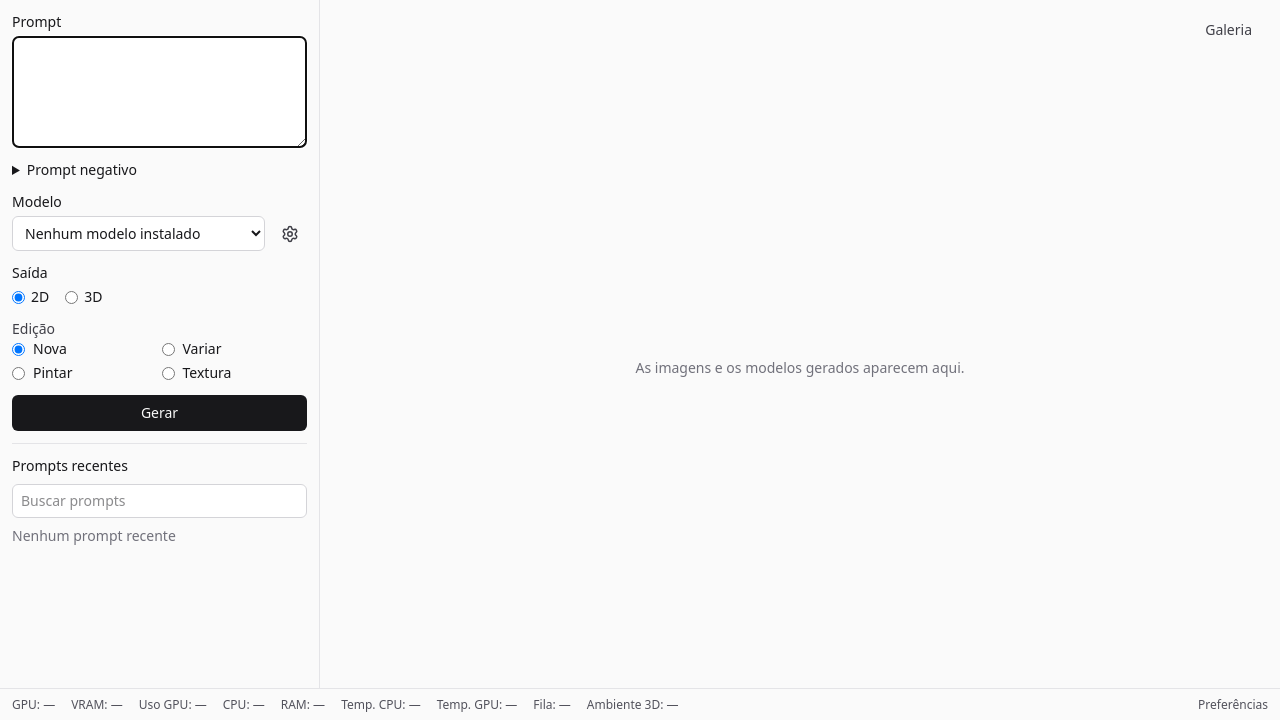
Test: App › abre o prompt negativo e as configurações do modelo
The image size is (1280, 720).
Step 1. Click the heading "Prompt negativo" → click(82, 170), box [27, 160, 137, 179]
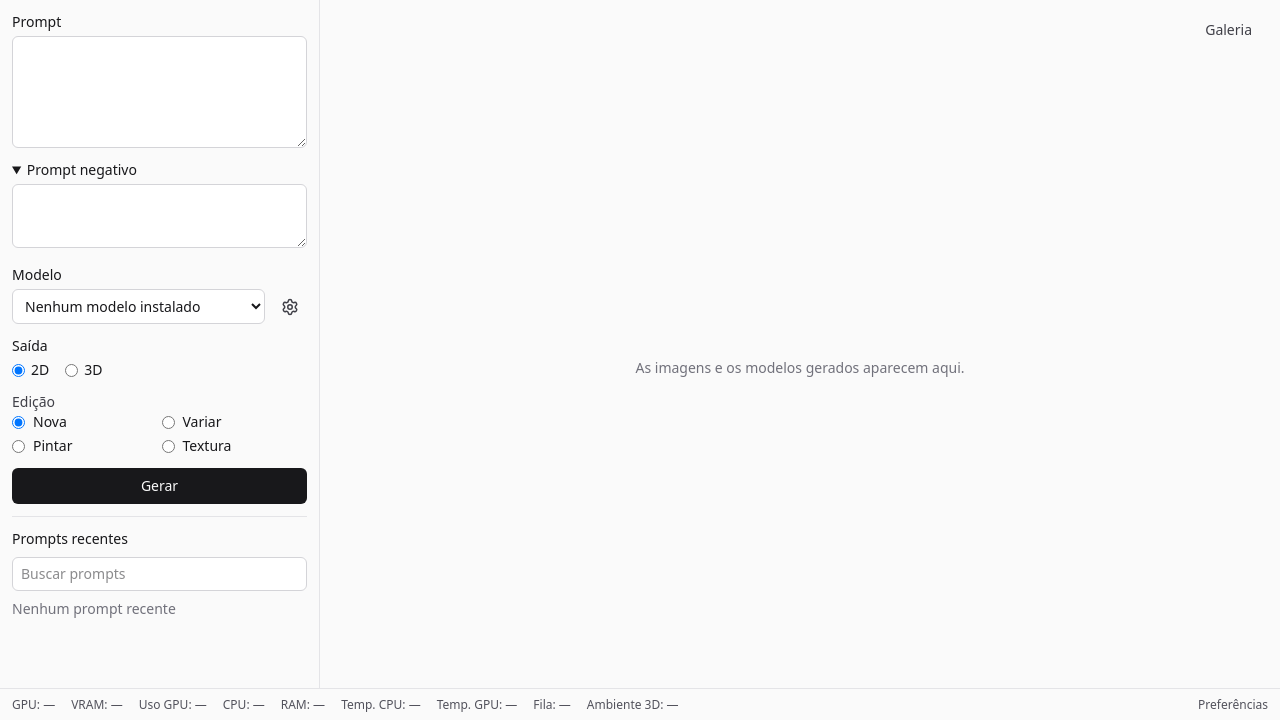
Step 2. Type "fundo" into the text box named "Prompt negativo" → (160, 216), box [12, 184, 307, 248]
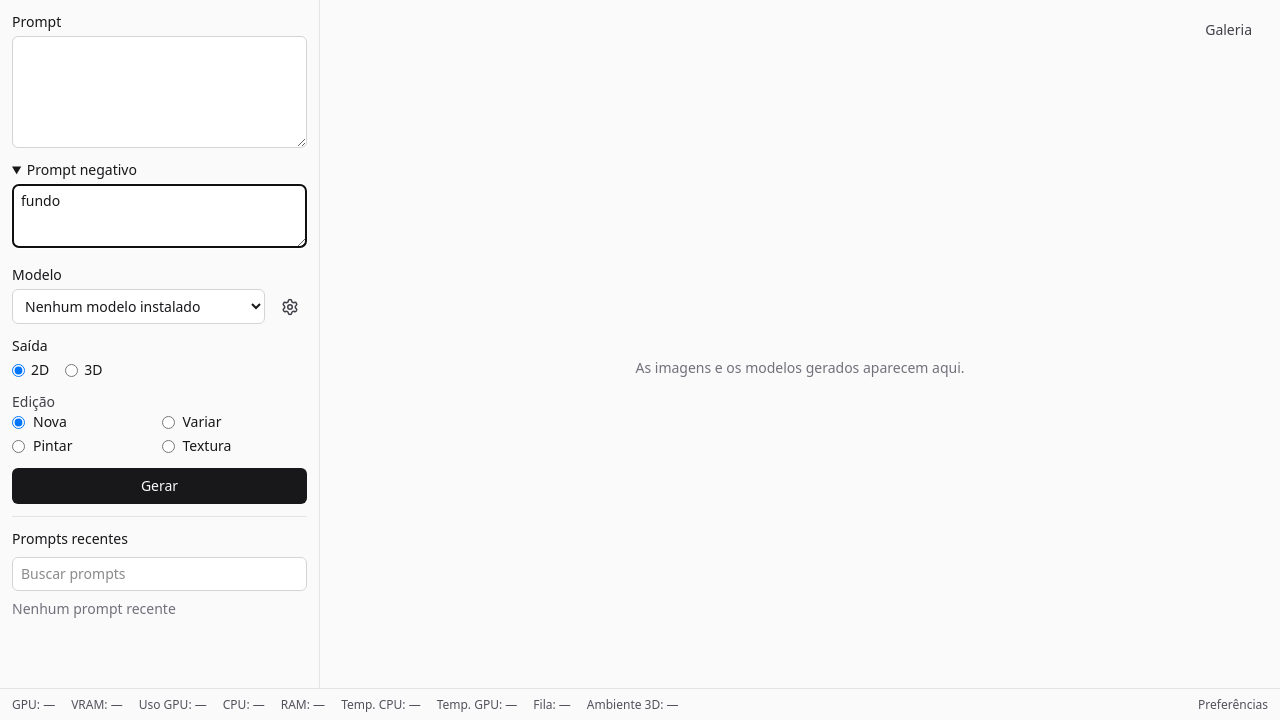
Step 3. Click the button named "Configurações do modelo" → click(290, 307), box [273, 290, 307, 324]
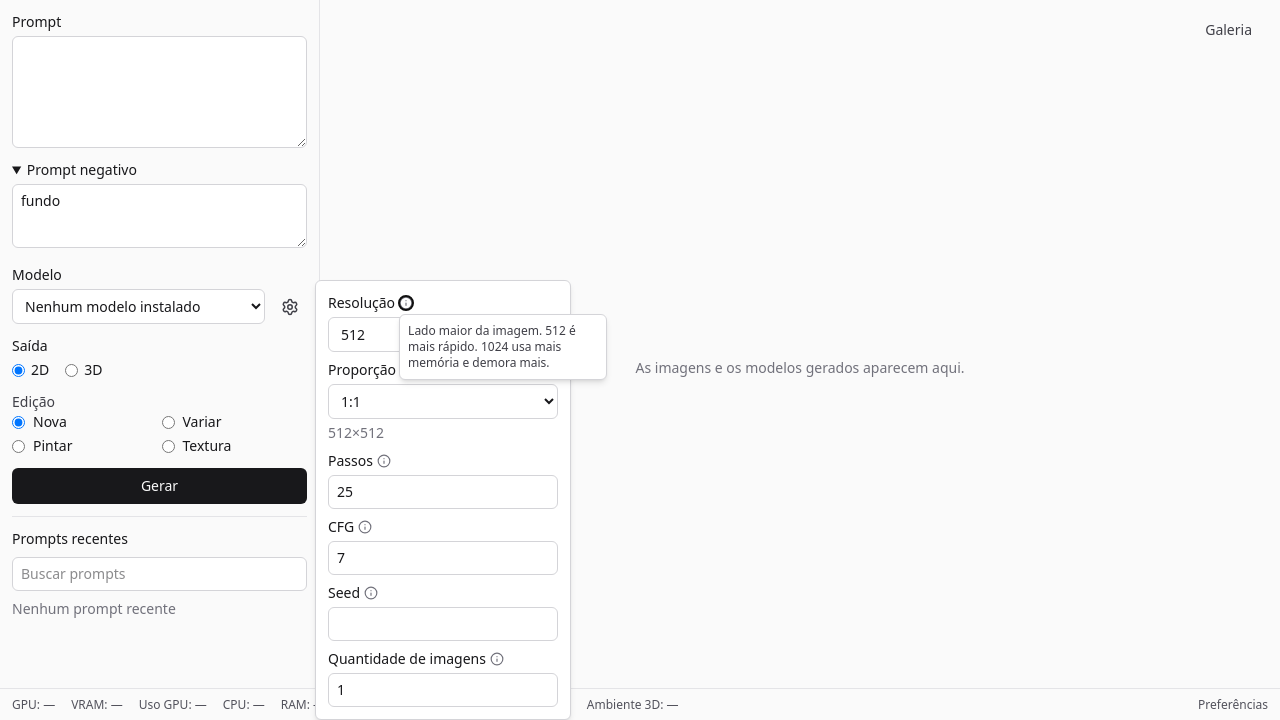
Expected: the number field labelled "Passos" holds "25", [328, 475, 558, 509]
